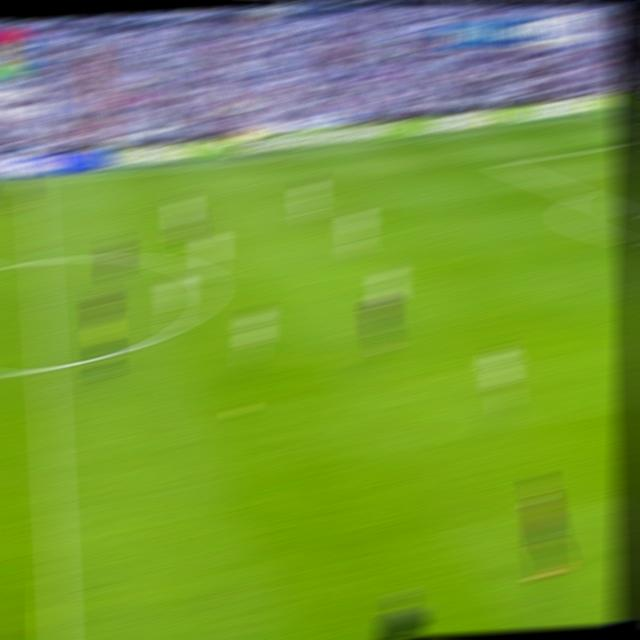bigarea_bottom_outter: (568, 186, 589, 201)
halfcircle_bottom: (32, 351, 60, 382)
halfcircle_top: (26, 248, 52, 272)
midline_top_intersection: (25, 177, 44, 188)
